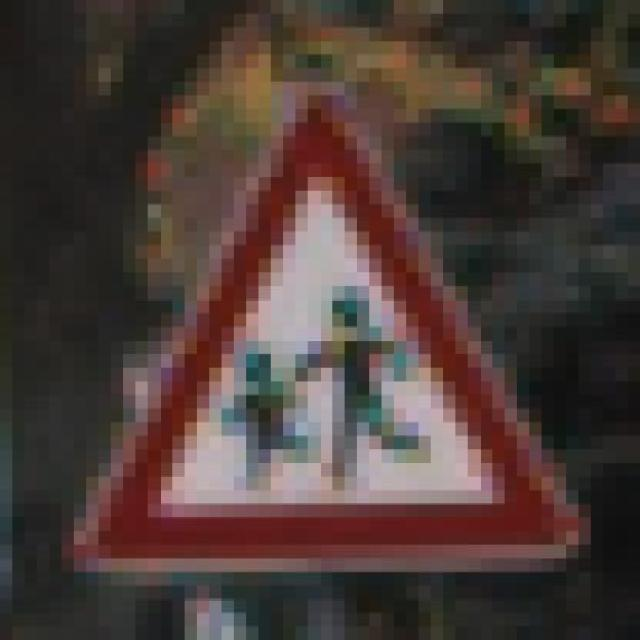Beware of children: (49, 82, 591, 586)
